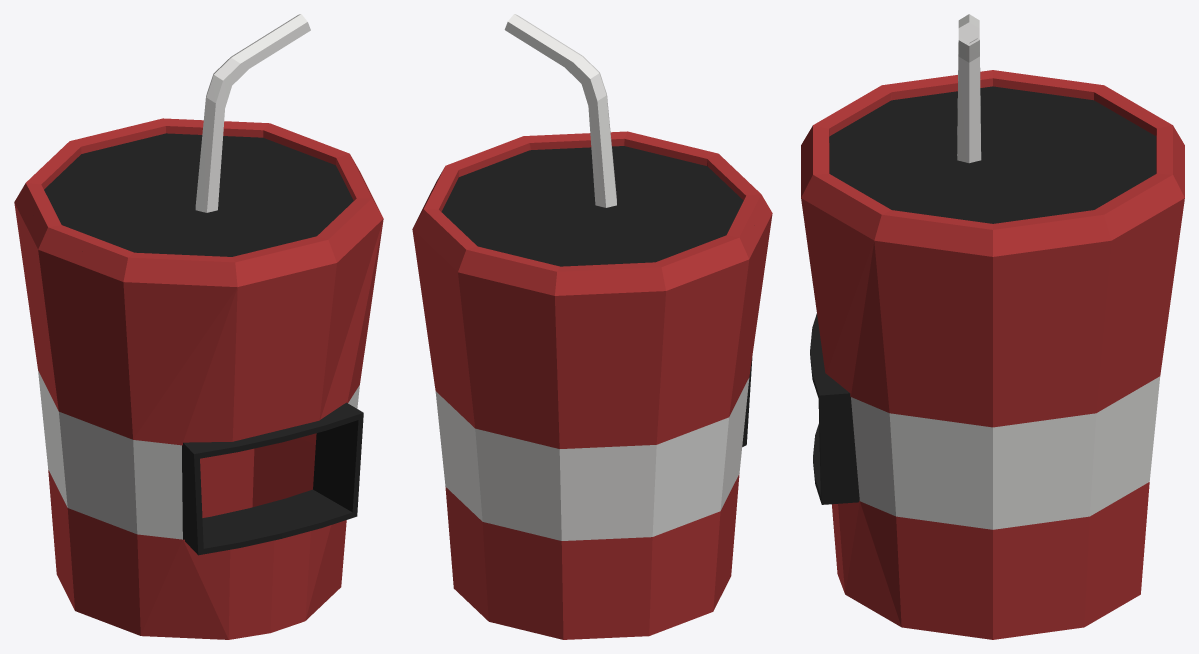
Rendered from Soda.fbx.
The picture shows the model from 3 angles, left to right: view 1: azimuth 30°, elevation 25°; view 2: azimuth 150°, elevation 25°; view 3: azimuth 270°, elevation 25°; orthographic projection. The views are drawn at different scales.
Parts seen in each view (by area): view 1: Cylinder021; view 2: Cylinder021; view 3: Cylinder021.
Part boxes in pixels (x1,y1,x2,y2): Cylinder021: (14, 14, 383, 639); Cylinder021: (412, 14, 772, 639); Cylinder021: (801, 14, 1184, 639).
Size of the model in its own units: 287 by 472 by 273.
